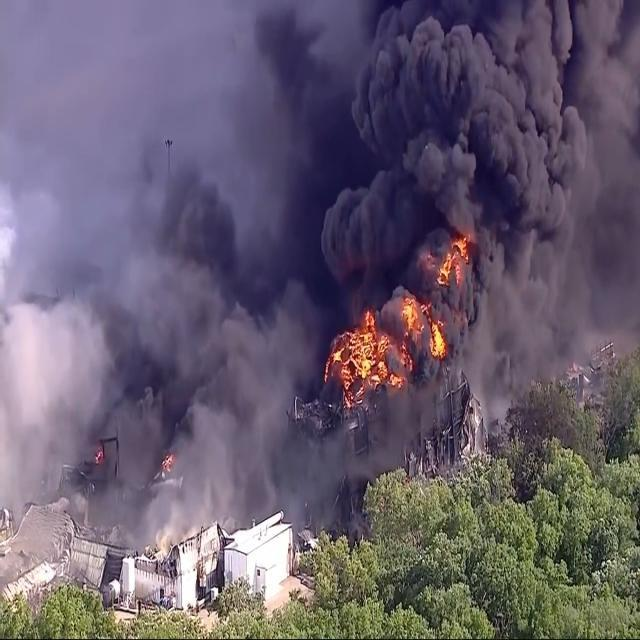Fire: (325, 218, 479, 408)
Smoke: (318, 0, 603, 450)
